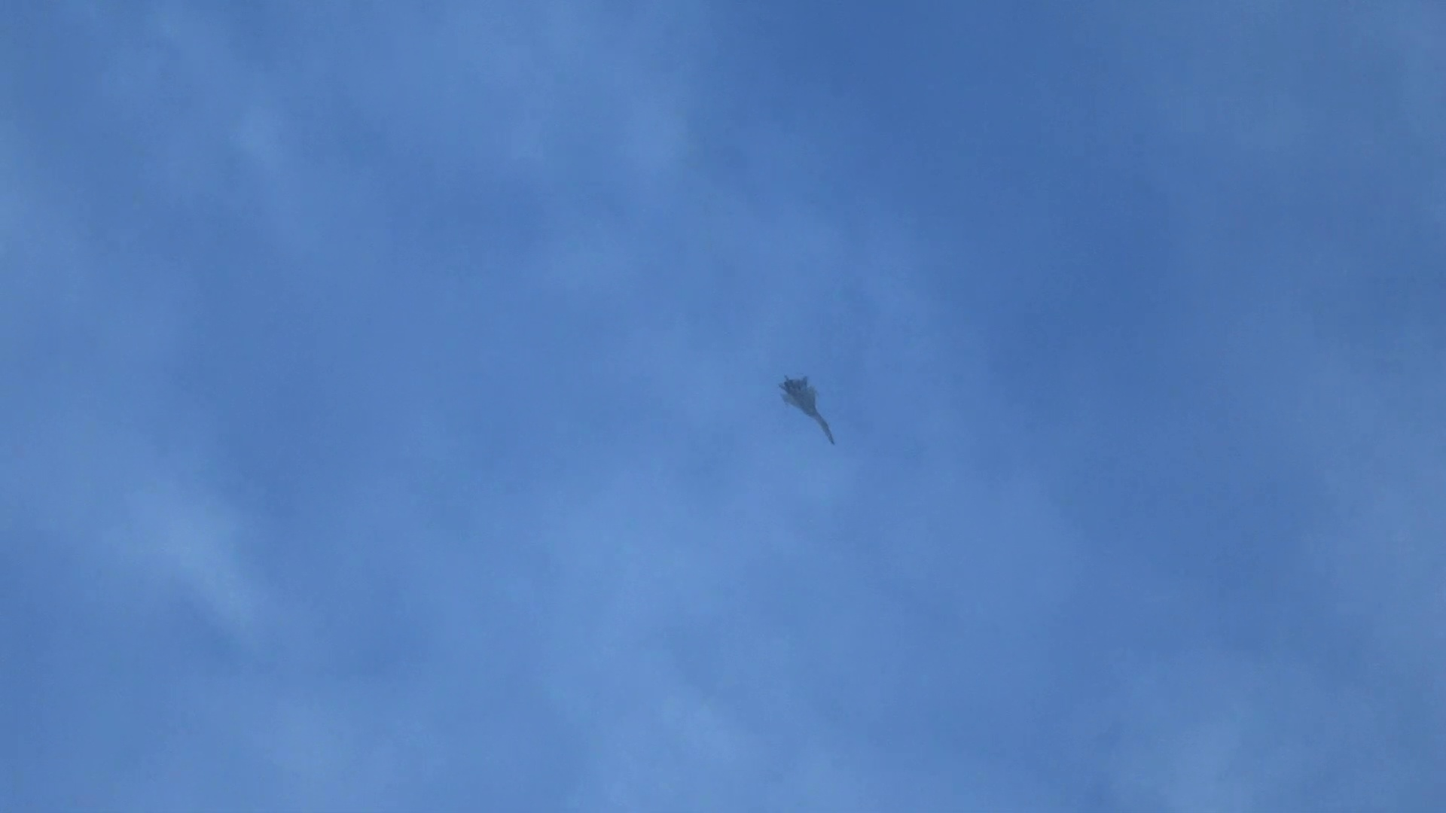Su35: (777, 375, 836, 445)
